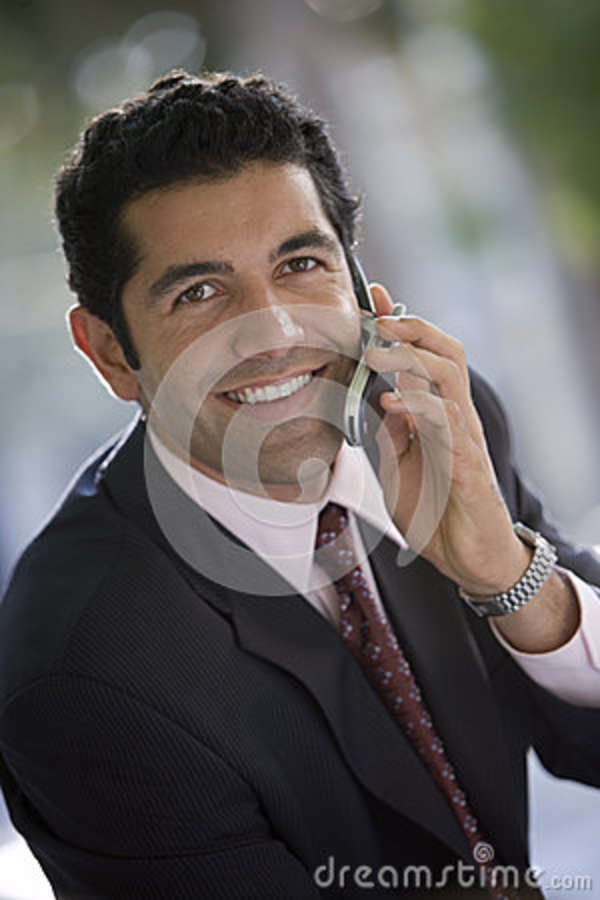phone: (335, 231, 394, 447)
talk: (139, 226, 511, 580)
